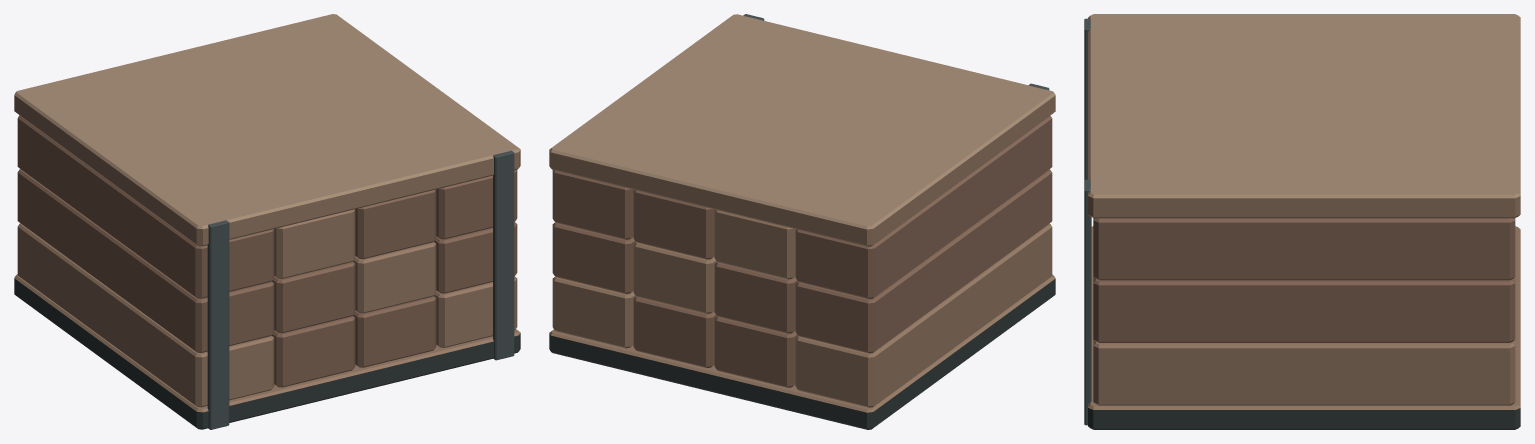
Rendered from platform.glb.
The picture shows the model from 3 angles, left to right: view 1: azimuth 30°, elevation 25°; view 2: azimuth 150°, elevation 25°; view 3: azimuth 270°, elevation 25°; orthographic projection. The views are drawn at different scales.
Visible parts, largest first — view 1: platform__body; view 2: platform__body; view 3: platform__body.
Part boxes in pixels (x1,y1,x2,y2): platform__body: (14, 14, 520, 429); platform__body: (549, 14, 1055, 429); platform__body: (1084, 14, 1520, 429).
Bounding box in the file's own units: 2 × 1.2 × 2.02.
